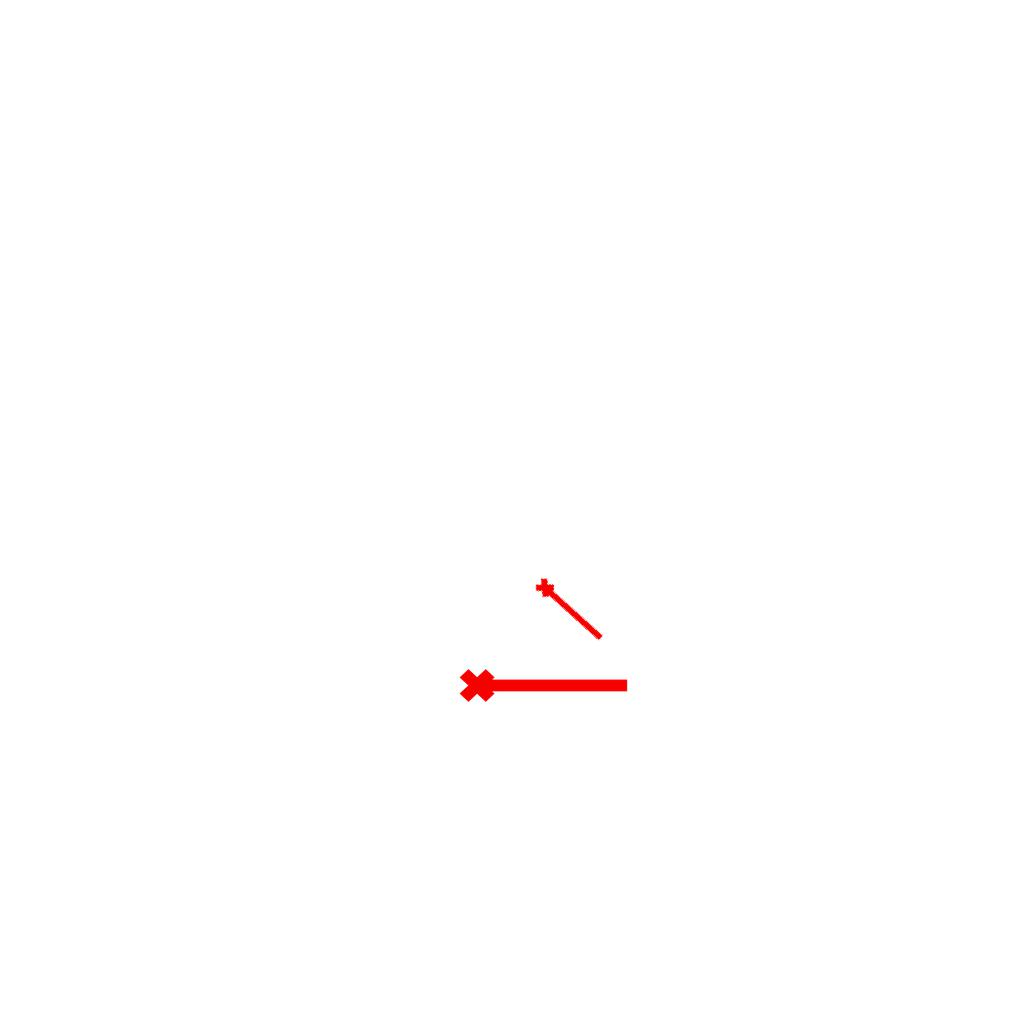ASR_Ansaugoeffnung: (457, 660, 633, 706), (530, 571, 612, 648)
